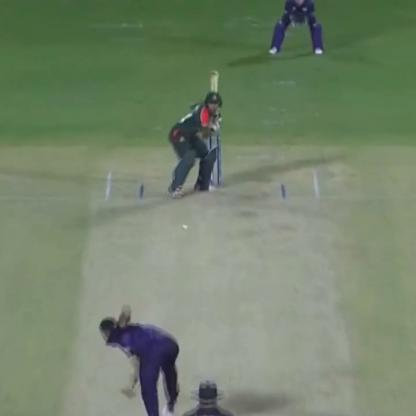ball: (174, 222, 192, 234)
bat: (195, 66, 229, 118)
pitch: (72, 164, 364, 416)
